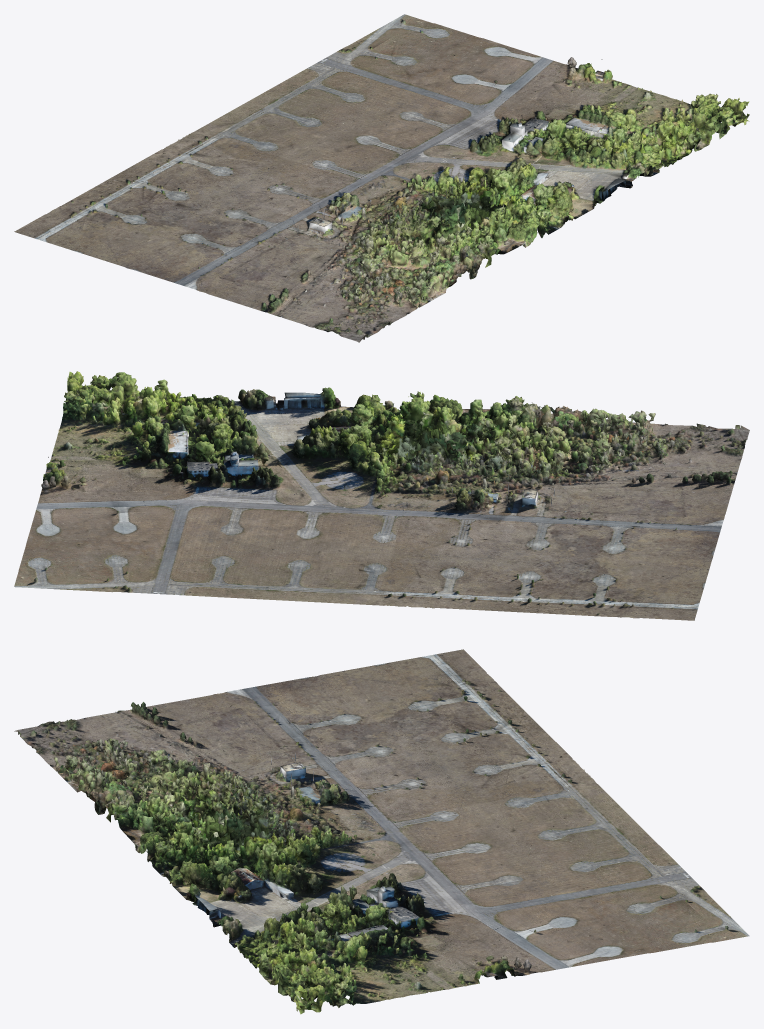
File: Airport_Sample.glb
3 renders of one model, top to bottom at view 1: azimuth 30°, elevation 25°; view 2: azimuth 150°, elevation 25°; view 3: azimuth 270°, elevation 25°, orthographic. The views are drawn at different scales.
Parts seen in each view (by area): view 1: MEDIUM_10pct_4K; view 2: MEDIUM_10pct_4K; view 3: MEDIUM_10pct_4K.
Boxes of the visible parts, bbox=[...] form: MEDIUM_10pct_4K: bbox=[14, 14, 749, 342]; MEDIUM_10pct_4K: bbox=[14, 371, 749, 620]; MEDIUM_10pct_4K: bbox=[14, 649, 749, 1014].
Size of the model in its own units: 736 by 28.5 by 626.
Materials: 1 (1 with a texture image).
